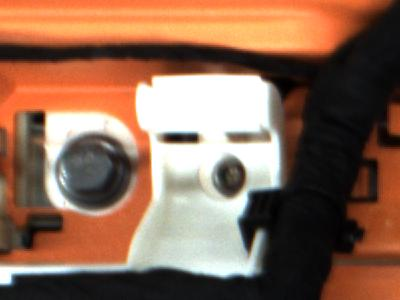nut_b: (51, 137, 141, 213)
